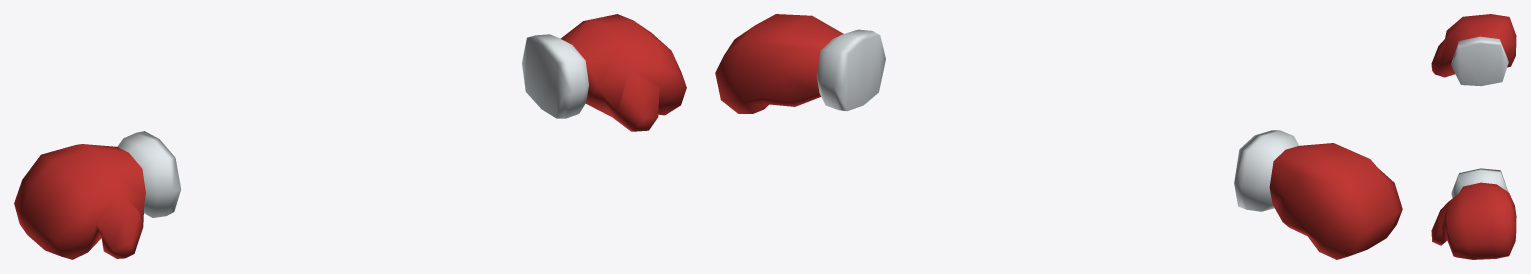
File: Glove_21.fbx
The picture shows the model from 3 angles, left to right: view 1: azimuth 30°, elevation 25°; view 2: azimuth 150°, elevation 25°; view 3: azimuth 270°, elevation 25°; orthographic projection. The views are drawn at different scales.
Parts seen in each view (by area): view 1: Glove_21; view 2: Glove_21; view 3: Glove_21.
Boxes of the visible parts, x1=… form: Glove_21: x1=14, y1=14, x2=686, y2=259; Glove_21: x1=715, y1=14, x2=1402, y2=259; Glove_21: x1=1431, y1=14, x2=1516, y2=259.
Bounding box in the file's own units: 140 × 18.4 × 23.93.
